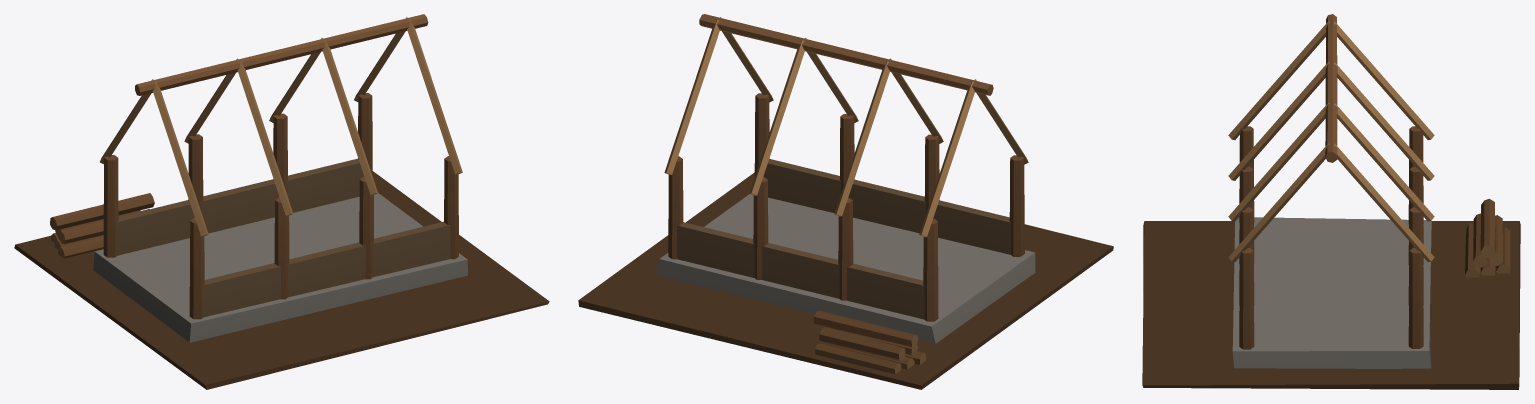
The model's file is town_center_s1.glb.
3 views of the same model, side by side, from view 1: azimuth 30°, elevation 25°; view 2: azimuth 150°, elevation 25°; view 3: azimuth 270°, elevation 25° (orthographic).
Visible parts, largest first — view 1: town_center_s1; view 2: town_center_s1; view 3: town_center_s1.
Part boxes in pixels (bbox=[...]): town_center_s1: bbox=[14, 14, 549, 389]; town_center_s1: bbox=[578, 14, 1113, 389]; town_center_s1: bbox=[1142, 14, 1520, 389].
Bounding box in the file's own units: 3.11 × 1.99 × 3.01.
